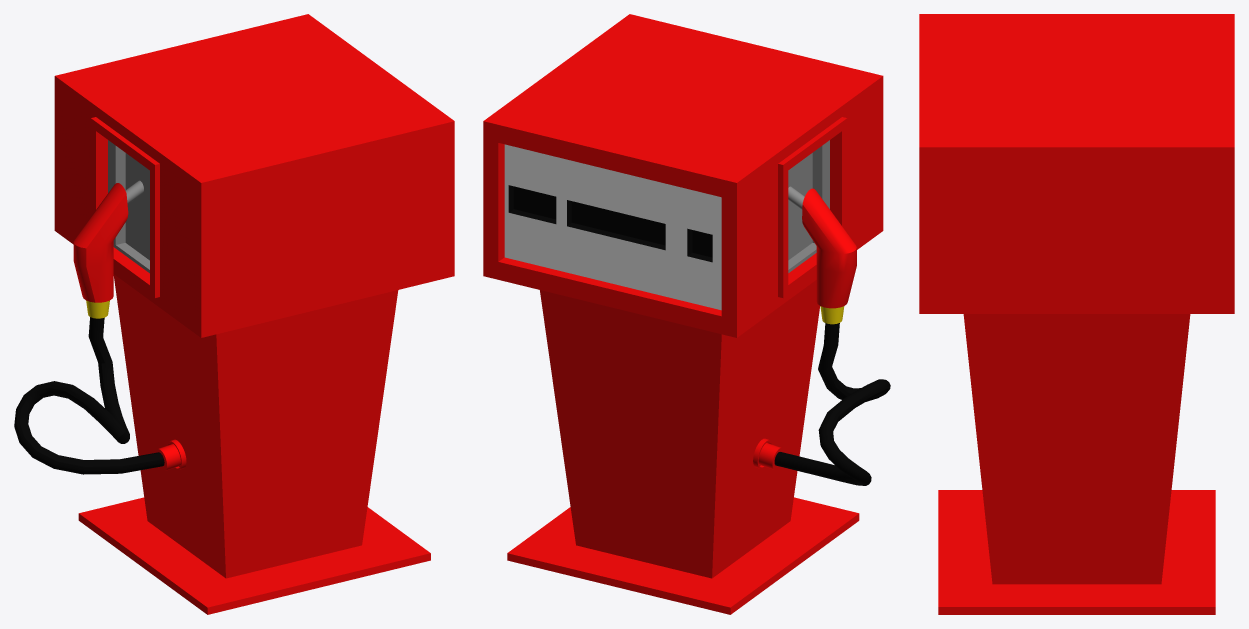
The model's file is gasstationpump1.fbx.
The picture shows the model from 3 angles, left to right: view 1: azimuth 30°, elevation 25°; view 2: azimuth 150°, elevation 25°; view 3: azimuth 270°, elevation 25°; orthographic projection. The views are drawn at different scales.
Visible parts, largest first — view 1: gasstationpump1; view 2: gasstationpump1; view 3: gasstationpump1.
Boxes of the visible parts, x1,y1,x2,y2 form: gasstationpump1: [14, 14, 454, 614]; gasstationpump1: [483, 14, 890, 614]; gasstationpump1: [919, 14, 1234, 614].
Bounding box in the file's own units: 203 × 255 × 153.
